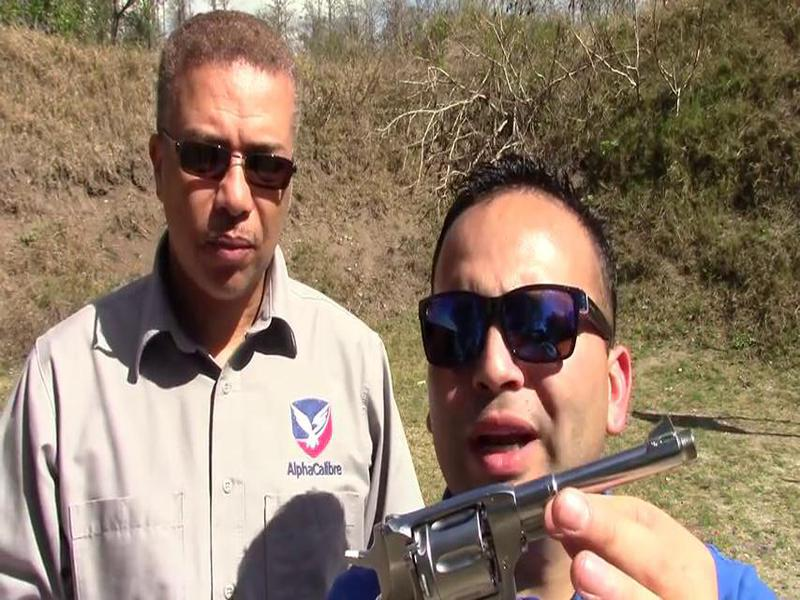Revolver: (332, 401, 718, 600)
